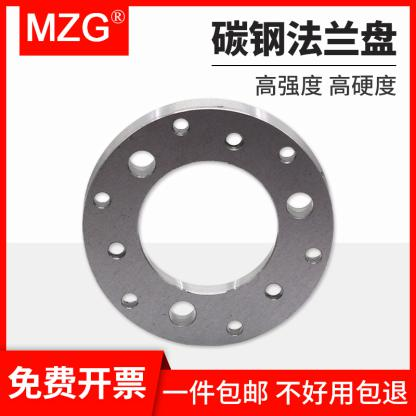FOD: (78, 93, 341, 348)
